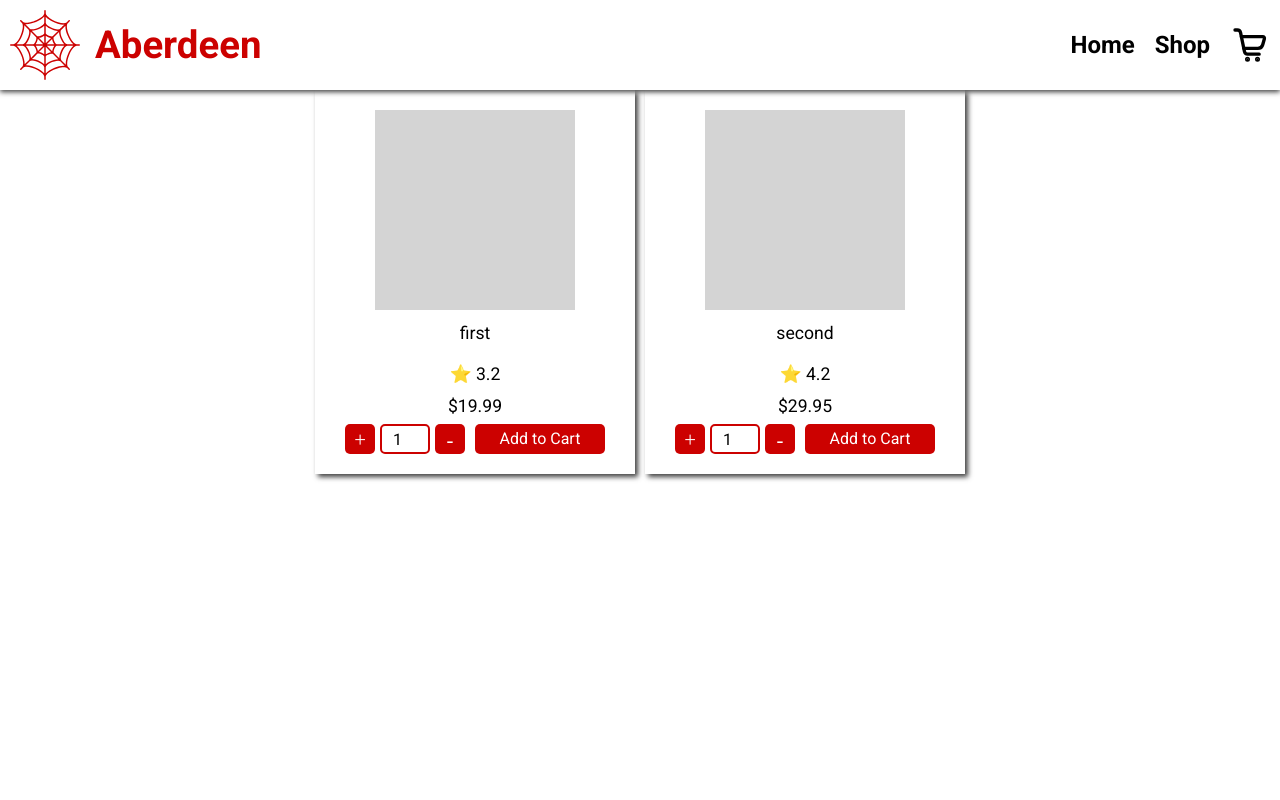
Test: shopping cart component › should render correct subtotal
Click the button "Add to Cart" below "first". click: point(540, 439)
box: [475, 424, 605, 454]
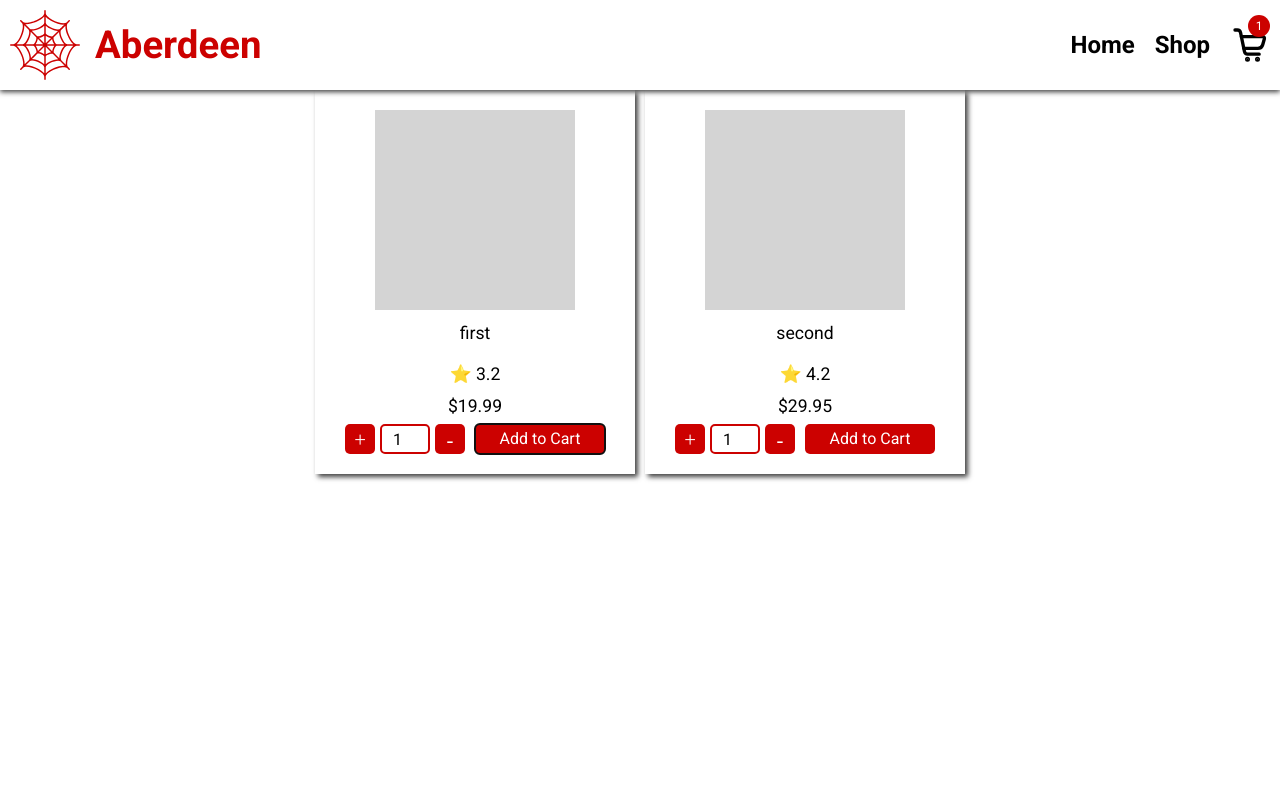
Click the button "+" below "second". click: point(690, 439)
box: [675, 424, 705, 454]
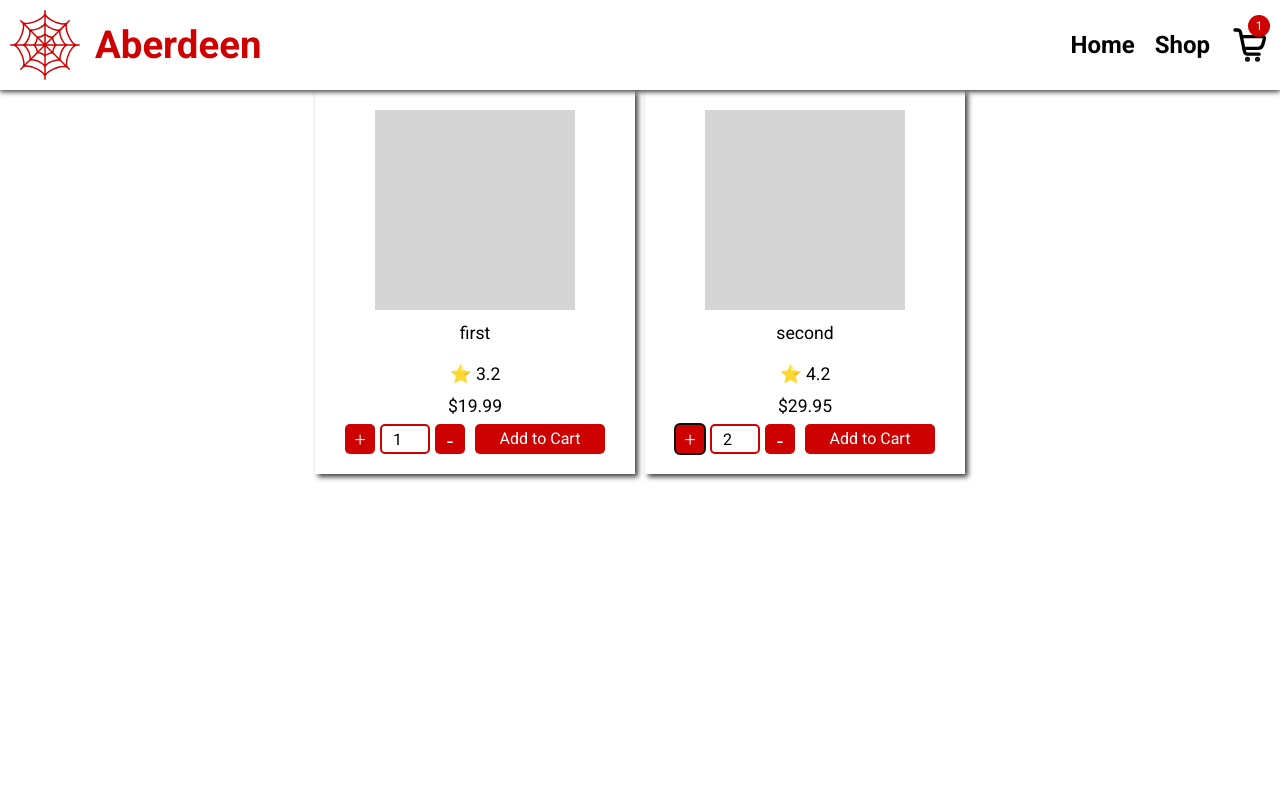
Click the button "Add to Cart" below "second". click: point(870, 439)
box: [805, 424, 935, 454]
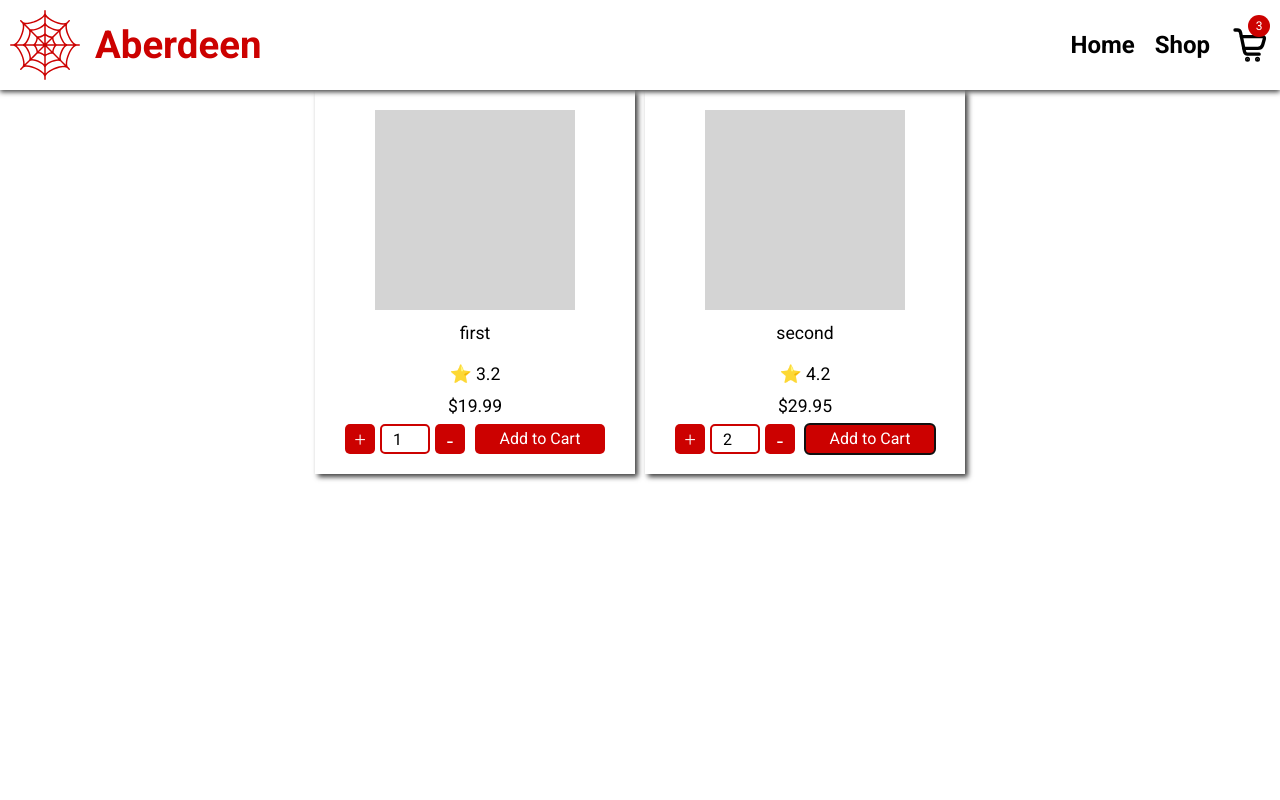
Click the link with test id "cart-button". click: point(1230, 25)
box: [1230, 25, 1270, 65]
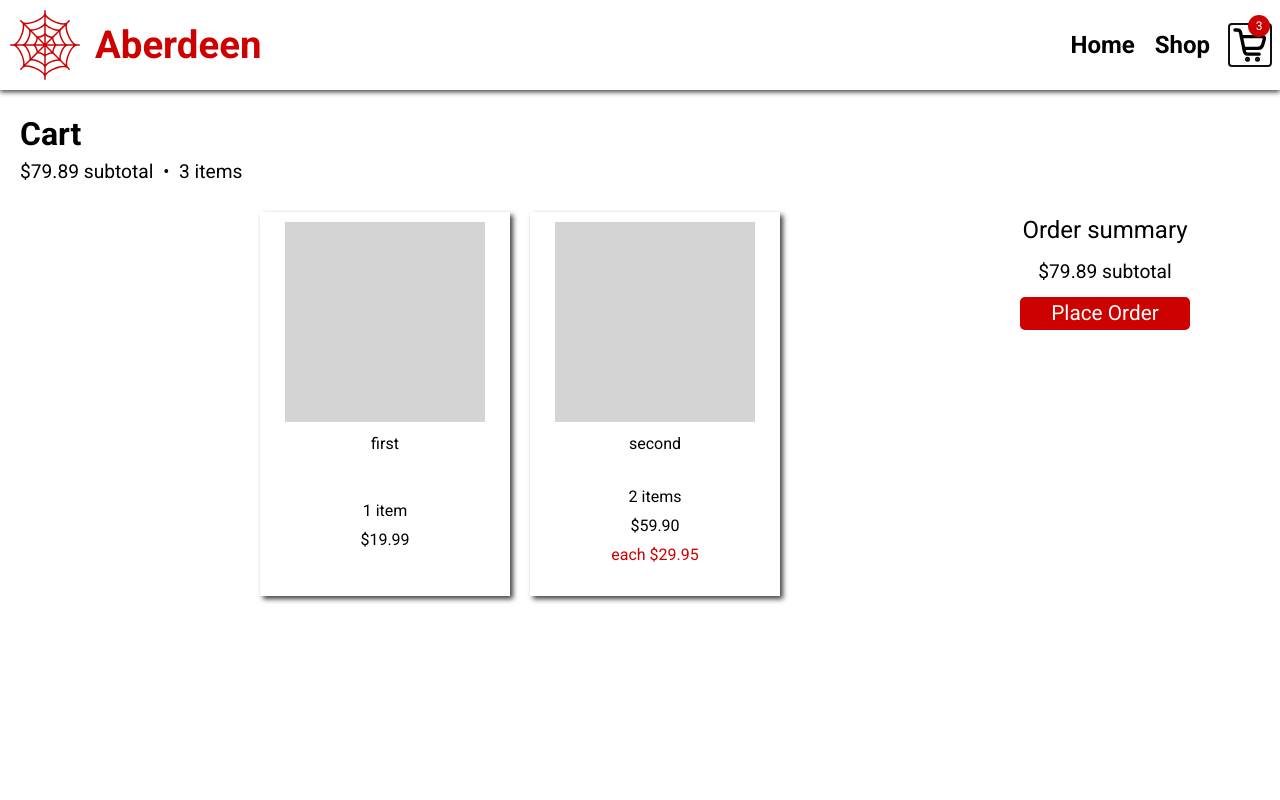
Now the text "$79.89 subtotal" next to "3 items" is shown, box [79, 160, 153, 183]
Now the text "$79.89 subtotal" below "Order summary" is shown, box [1097, 260, 1172, 283]
